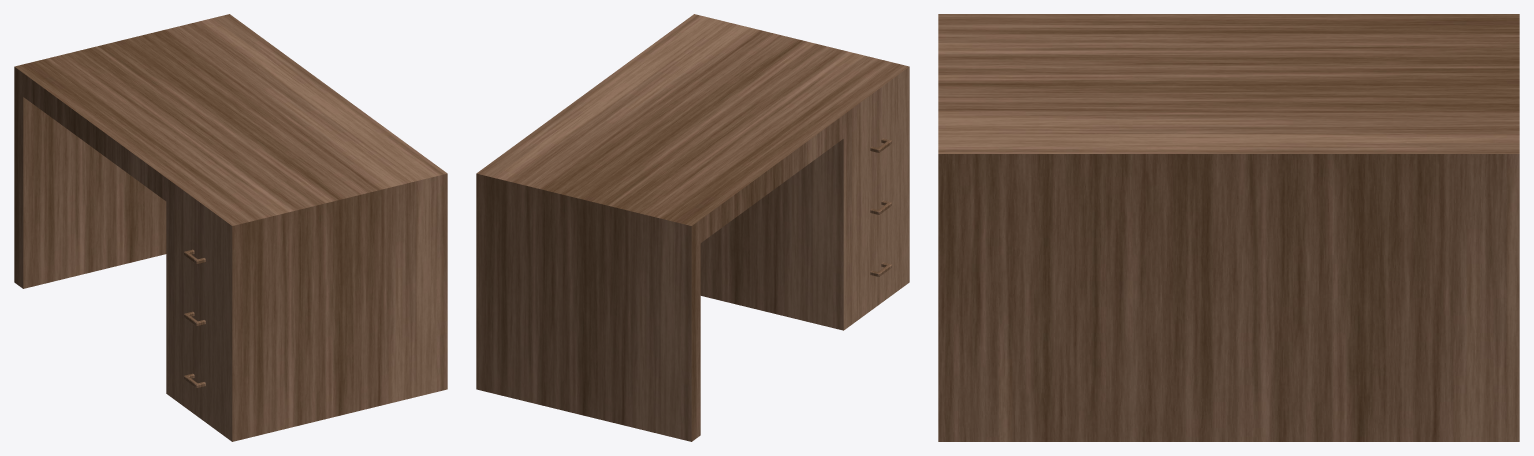
The model's file is office desk.FBX.
3 views of the same model, side by side, from view 1: azimuth 30°, elevation 25°; view 2: azimuth 150°, elevation 25°; view 3: azimuth 270°, elevation 25° (orthographic). The views are drawn at different scales.
Parts seen in each view (by area): view 1: Box001; view 2: Box001; view 3: Box001.
Part boxes in pixels (x1,y1,x2,y2): Box001: [14, 14, 447, 441]; Box001: [476, 14, 909, 441]; Box001: [938, 14, 1519, 441].
Bounding box in the file's own units: 19.91 × 18.29 × 33.48.
Materials: 4 (4 with a texture image).
